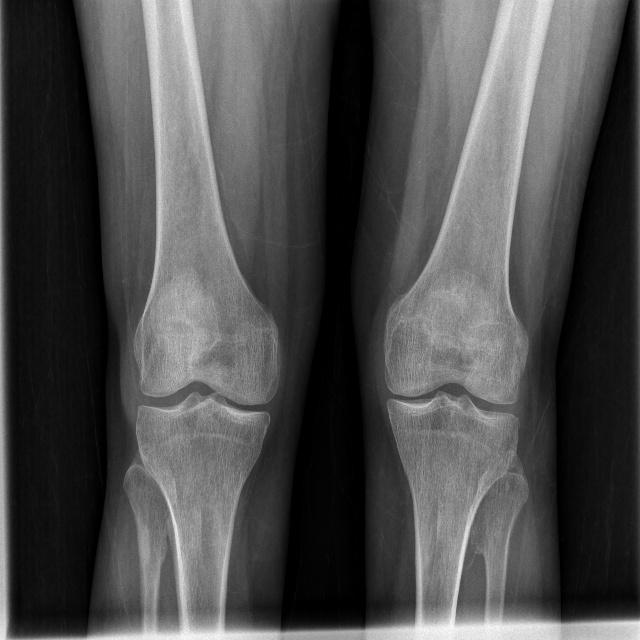Knee: (379, 321, 528, 463), (130, 317, 281, 453)
